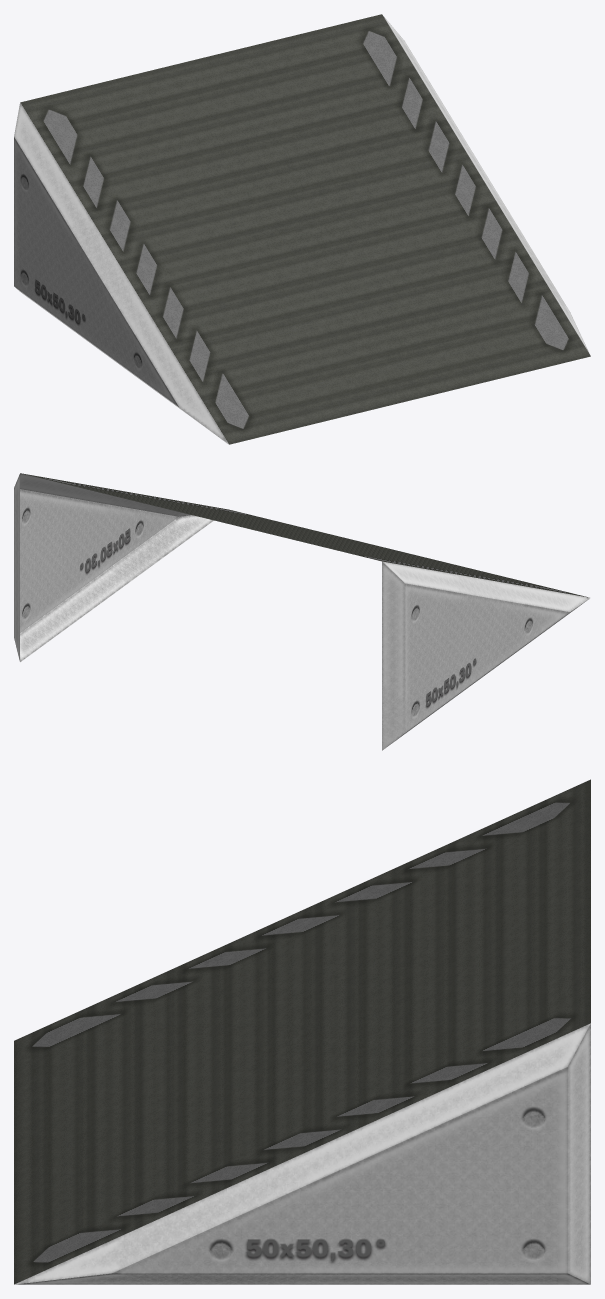
The model's file is SlopeLow.FBX.
The picture shows the model from 3 angles, top to bottom: view 1: azimuth 30°, elevation 25°; view 2: azimuth 150°, elevation 25°; view 3: azimuth 270°, elevation 25°; orthographic projection. The views are drawn at different scales.
Parts seen in each view (by area): view 1: SlopeLow001; view 2: SlopeLow001; view 3: SlopeLow001.
Boxes of the visible parts, left/top/right/bottom form: SlopeLow001: left=14, top=14, right=590, bottom=444; SlopeLow001: left=14, top=473, right=590, bottom=750; SlopeLow001: left=14, top=779, right=590, bottom=1284.
Bounding box in the file's own units: 54 × 25 × 50.
Materials: 1 (1 with a texture image).
